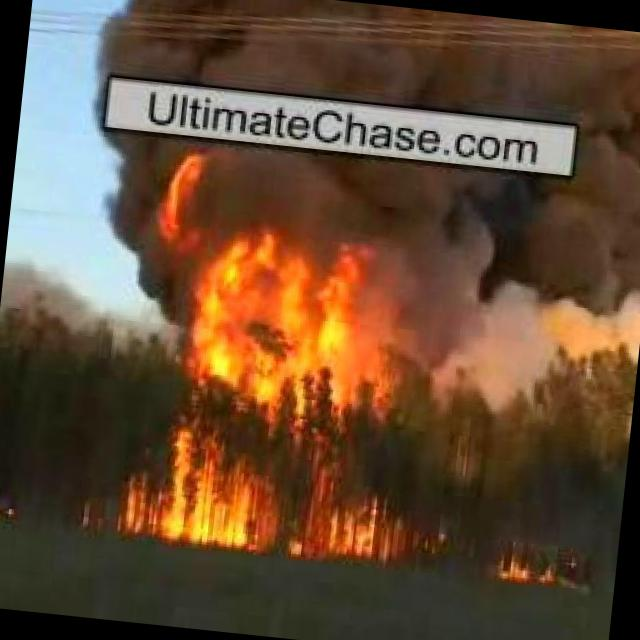Fire: (145, 146, 402, 404), (120, 415, 432, 569), (486, 538, 570, 588)
Smoke: (0, 122, 640, 407), (94, 0, 640, 137)
